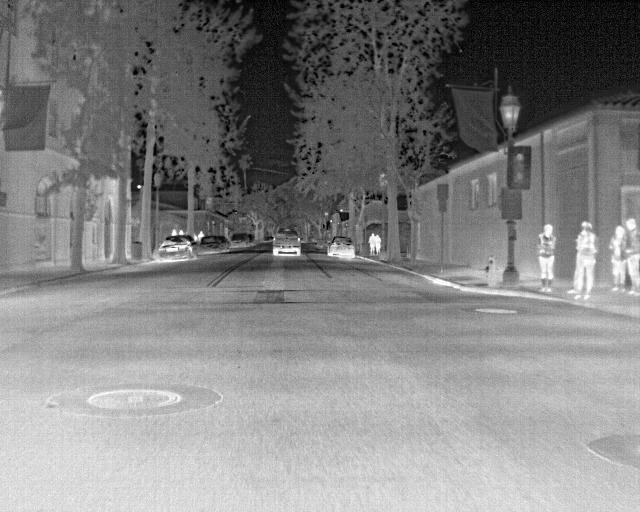bicycle: (154, 236, 197, 263), (272, 227, 303, 257), (325, 233, 357, 260), (197, 234, 226, 256), (229, 233, 248, 250)
empty: (571, 222, 597, 302), (538, 223, 557, 293), (608, 223, 625, 292), (624, 218, 638, 295), (368, 229, 377, 256), (372, 232, 381, 256)
